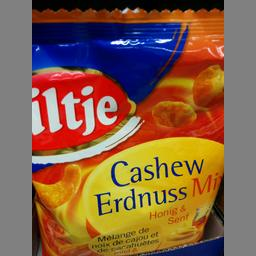nuts: (31, 4, 222, 254)
